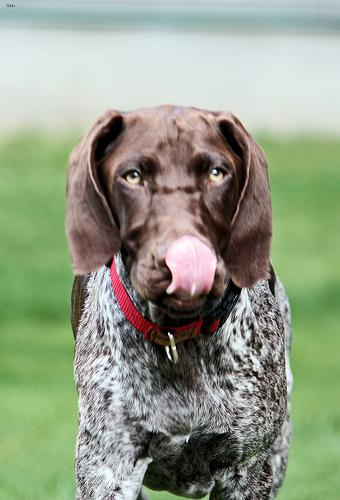dog-german_shorthaired: (64, 104, 271, 311)
